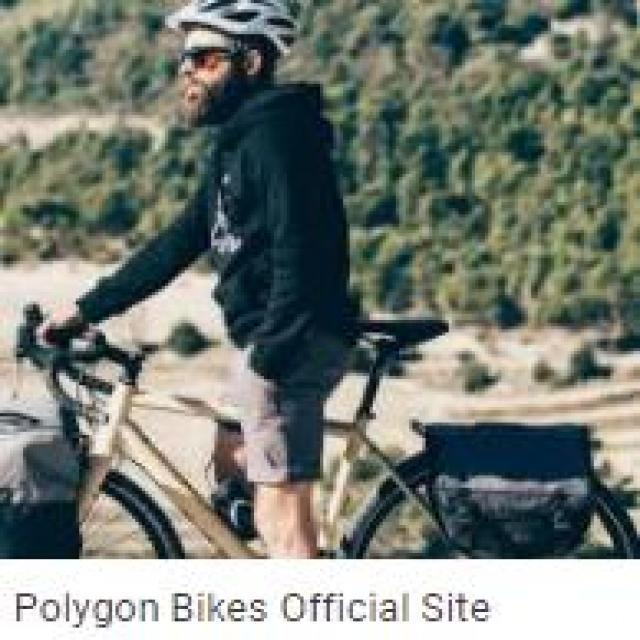bicycle: (21, 318, 640, 554)
